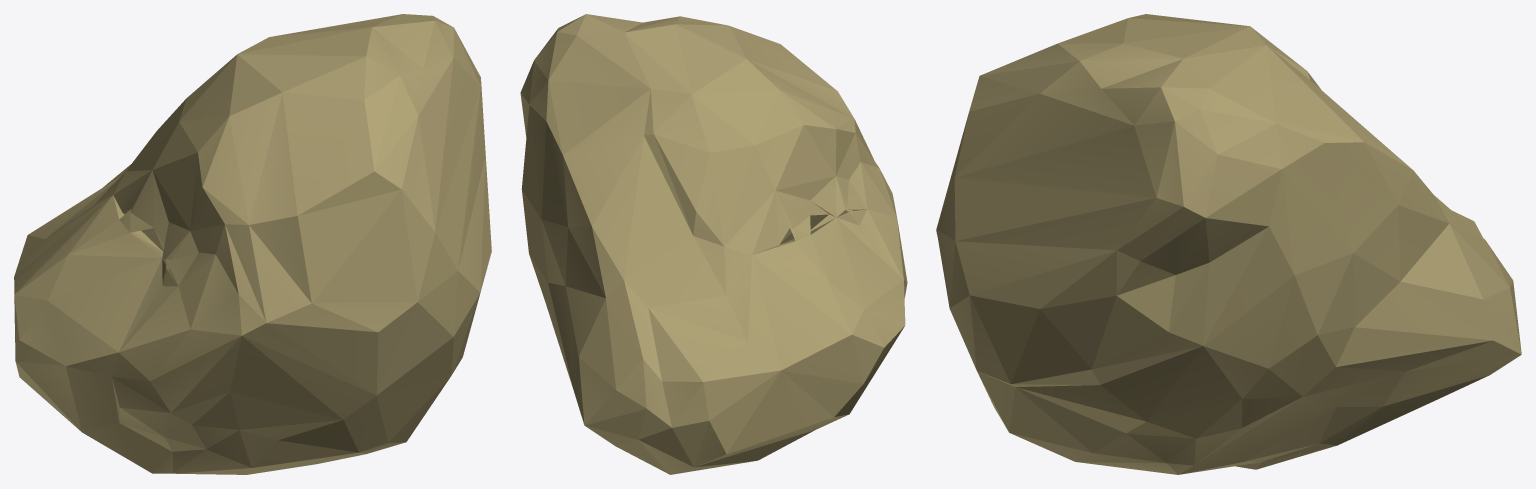
File: SM_rock_36.fbx
3 renders of one model, left to right at view 1: azimuth 30°, elevation 25°; view 2: azimuth 150°, elevation 25°; view 3: azimuth 270°, elevation 25°, orthographic. The views are drawn at different scales.
Parts seen in each view (by area): view 1: rock_36; view 2: rock_36; view 3: rock_36.
Part boxes in pixels (left/top/right/bottom): rock_36: left=14, top=14, right=491, bottom=474; rock_36: left=520, top=14, right=907, bottom=474; rock_36: left=936, top=14, right=1521, bottom=474.
Size of the model in its own units: 161 by 149 by 166.
